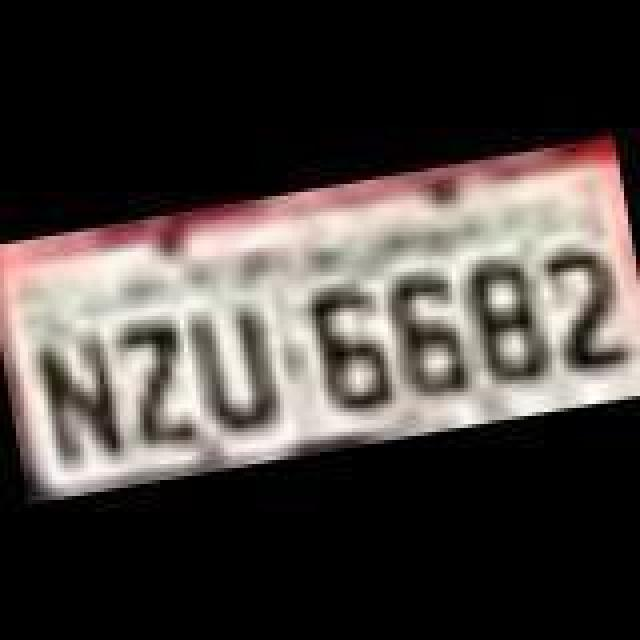2: (540, 240, 636, 376)
6: (304, 272, 400, 416), (382, 270, 474, 402)
8: (464, 248, 560, 392)
N: (32, 328, 128, 472)
U: (182, 294, 282, 434)
Z: (114, 314, 206, 454)
